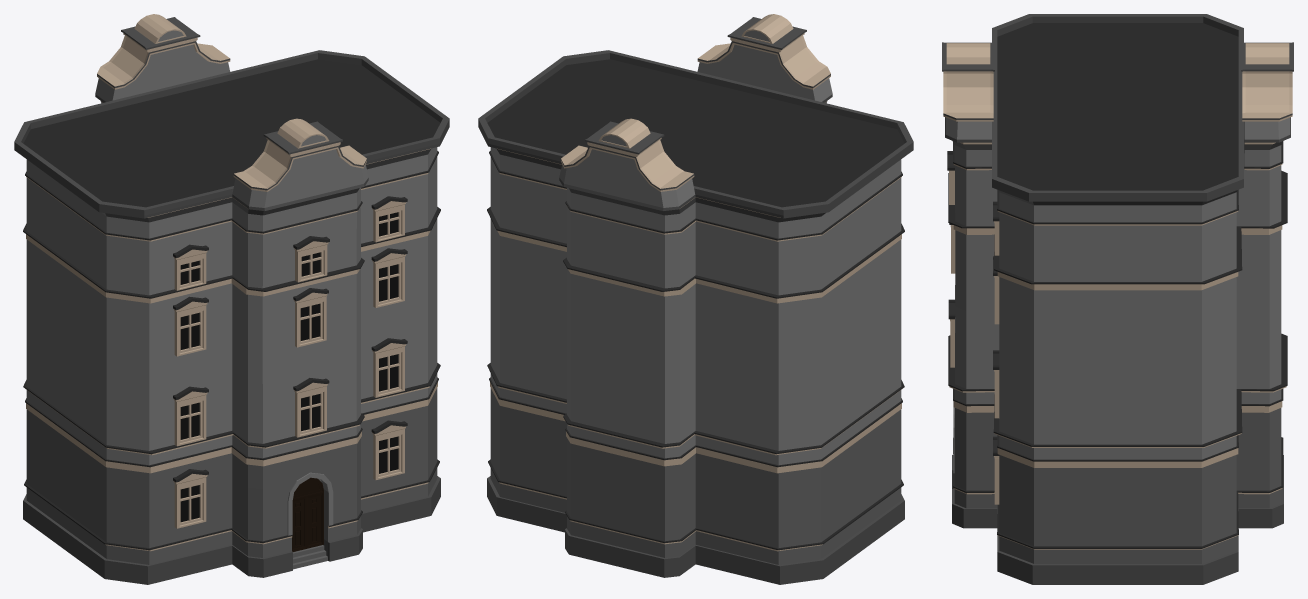
File: Building4.fbx
3 renders of one model, left to right at view 1: azimuth 30°, elevation 25°; view 2: azimuth 150°, elevation 25°; view 3: azimuth 270°, elevation 25°, orthographic. The views are drawn at different scales.
Visible parts, largest first — view 1: Building4; view 2: Building4; view 3: Building4.
Part boxes in pixels (<box>): Building4: <box>14,14,449,584</box>; Building4: <box>478,14,913,584</box>; Building4: <box>942,14,1293,584</box>.
Bounding box in the file's own units: 4.64 × 5.49 × 3.86.
